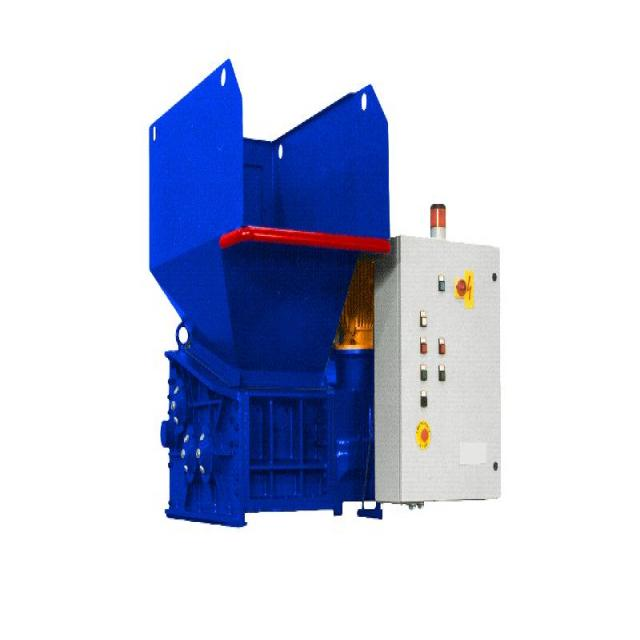Broyeur: (143, 48, 393, 374)
